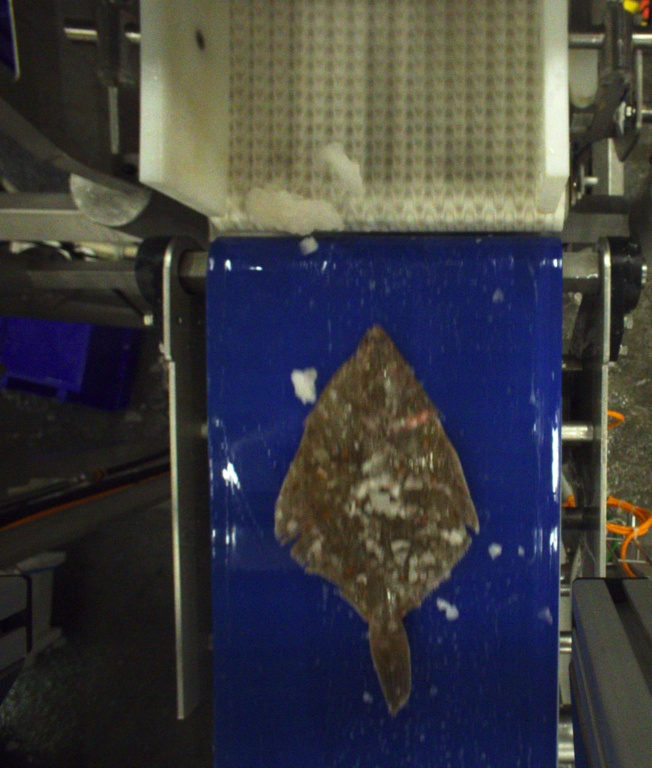PLE: (275, 324, 481, 716)
